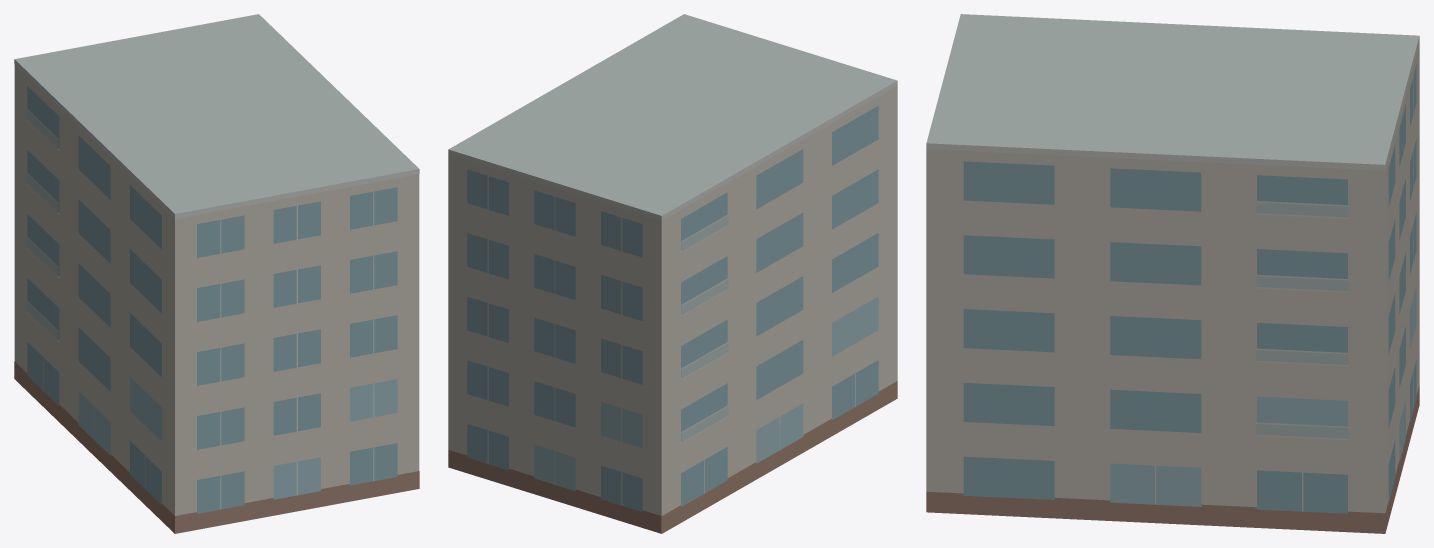
The model's file is survey-upis-32630047.glb.
3 renders of one model, left to right at view 1: azimuth 30°, elevation 25°; view 2: azimuth 150°, elevation 25°; view 3: azimuth 270°, elevation 25°, orthographic. The views are drawn at different scales.
Parts seen in each view (by area): view 1: survey-upis-32630047.tmp; view 2: survey-upis-32630047.tmp; view 3: survey-upis-32630047.tmp.
Boxes of the visible parts, <box> form: survey-upis-32630047.tmp: <box>14,14,419,533</box>; survey-upis-32630047.tmp: <box>448,14,897,533</box>; survey-upis-32630047.tmp: <box>926,14,1419,533</box>.
Size of the model in its own units: 13.38 by 15.25 by 18.48.
